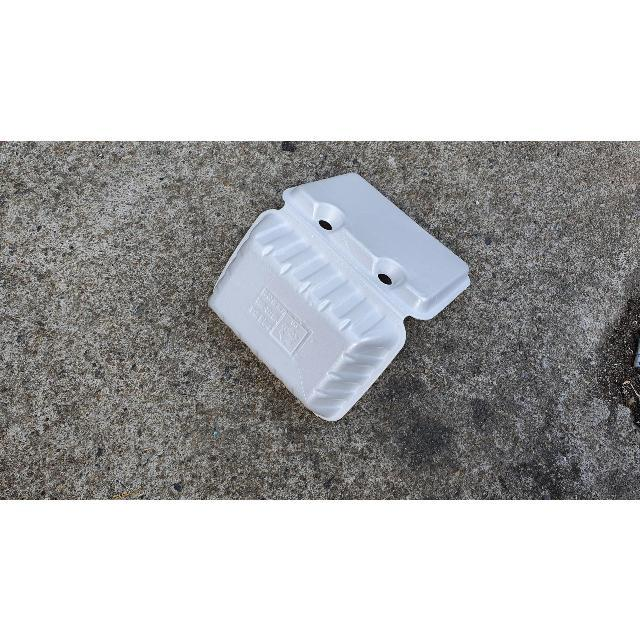Plastico descartable: (209, 174, 470, 424)
